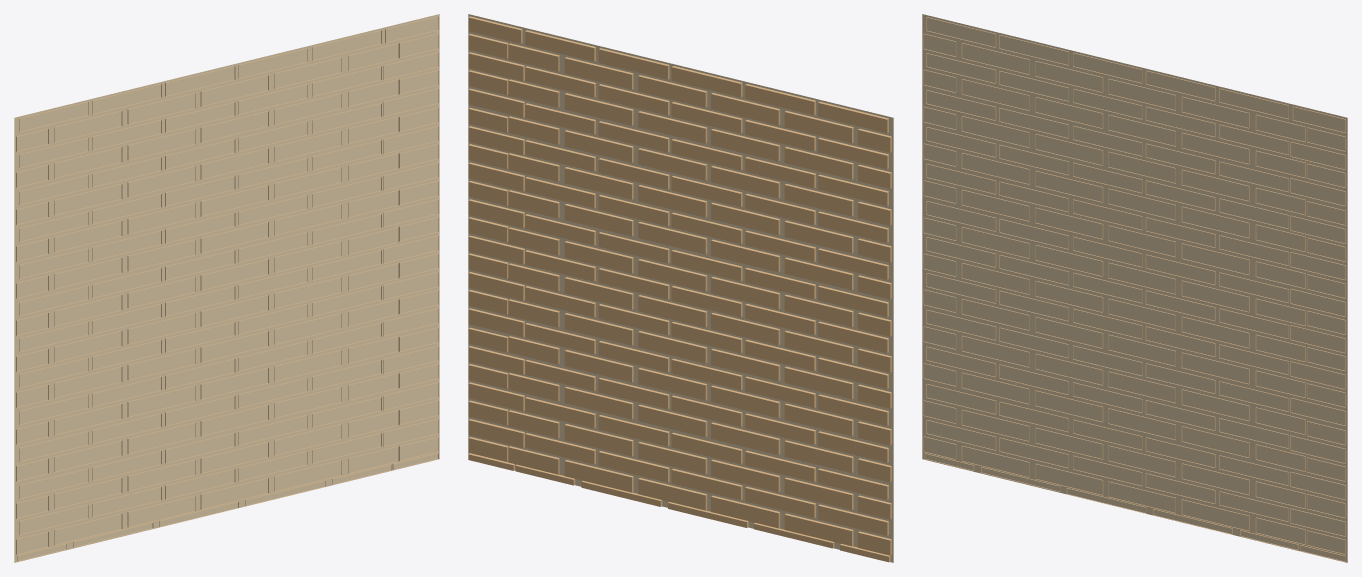
Rendered from AA_BaksteenMuur02_LOD0.fbx.
3 renders of one model, left to right at view 1: azimuth 30°, elevation 25°; view 2: azimuth 150°, elevation 25°; view 3: azimuth 330°, elevation 25°, orthographic.
Parts seen in each view (by area): view 1: AA_BaksteenMuur02_LOD0; view 2: AA_BaksteenMuur02_LOD0; view 3: AA_BaksteenMuur02_LOD0.
Part boxes in pixels (<box>): AA_BaksteenMuur02_LOD0: <box>14,14,439,562</box>; AA_BaksteenMuur02_LOD0: <box>468,14,893,562</box>; AA_BaksteenMuur02_LOD0: <box>922,14,1347,562</box>.
Bounding box in the file's own units: 4 × 4 × 0.0351.
